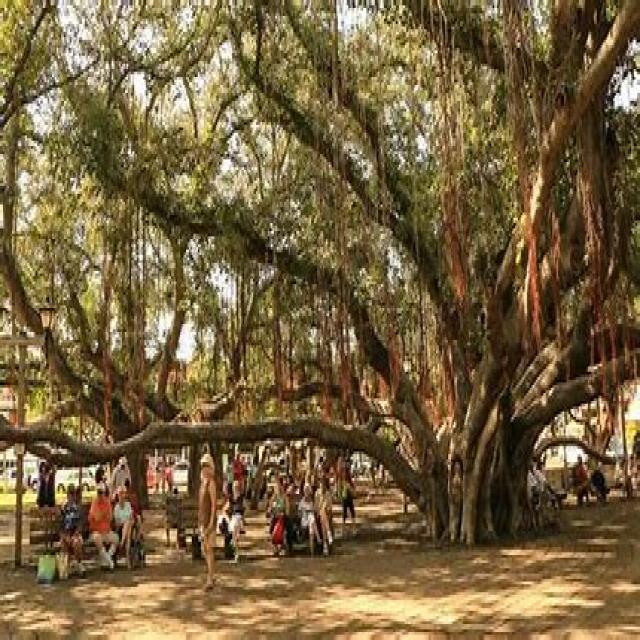Banyan-Tree: (0, 0, 640, 640), (232, 189, 626, 554)
